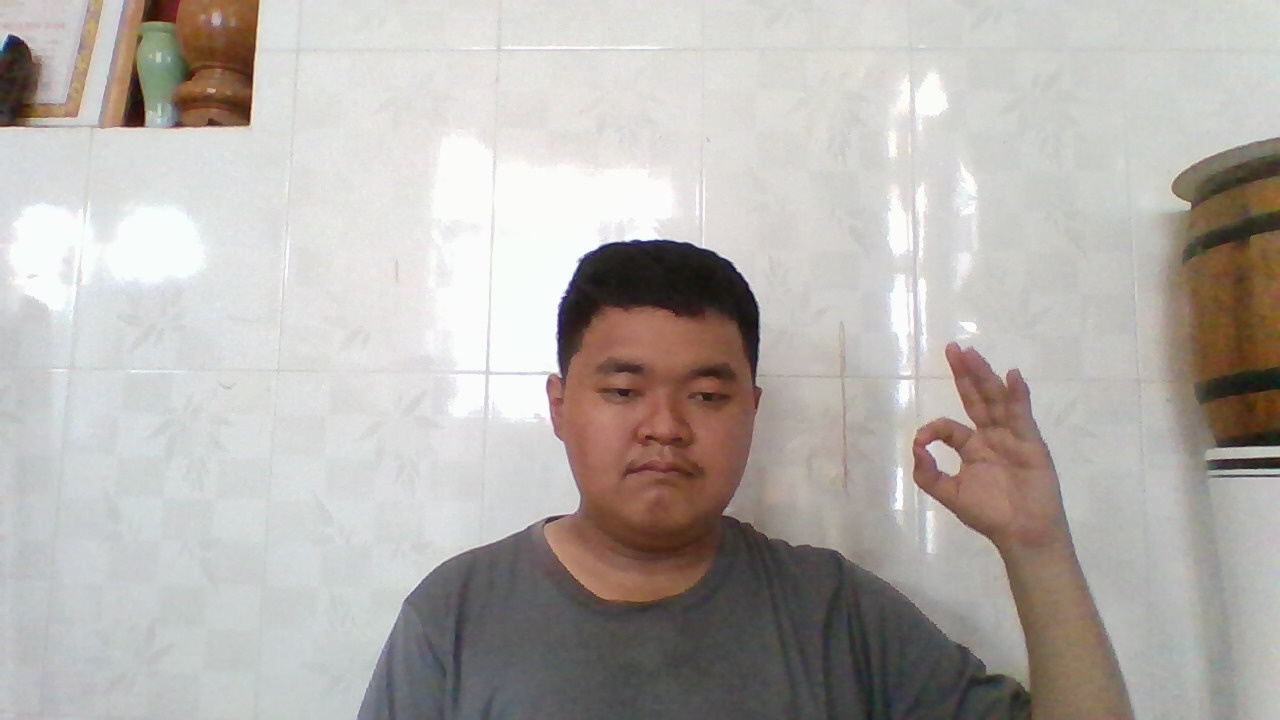T: (901, 334, 1047, 554)
